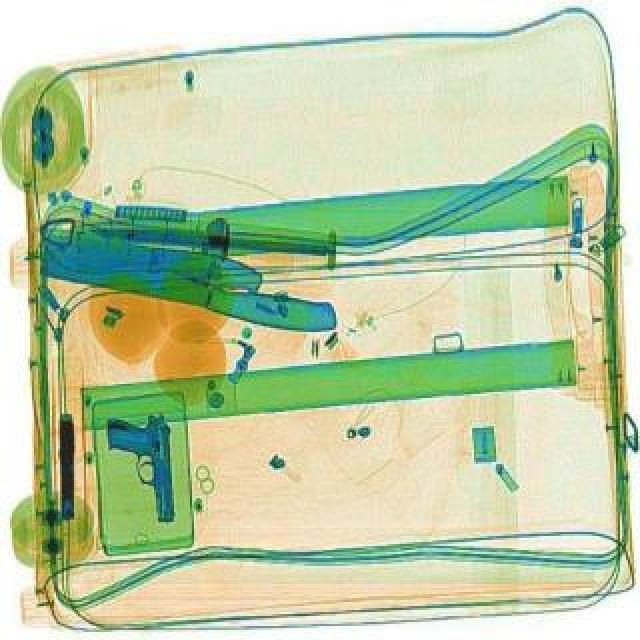gun: (106, 410, 176, 524), (54, 414, 80, 520)
knife: (32, 214, 348, 338), (38, 226, 266, 298), (86, 218, 330, 258)
